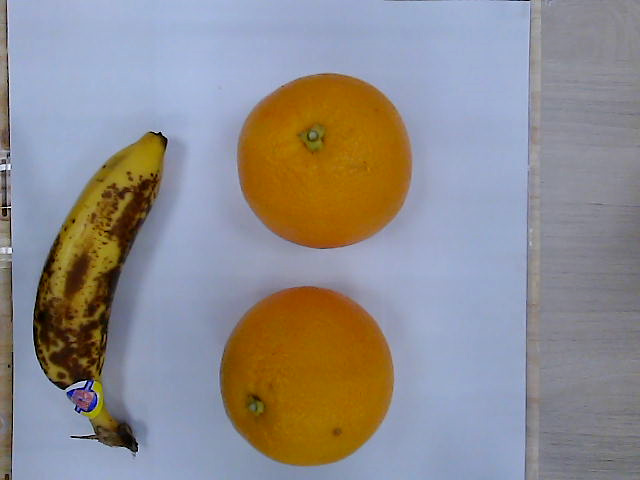fresh_orange: (239, 73, 414, 249), (219, 287, 392, 465)
rotten_banana: (33, 130, 170, 453)
